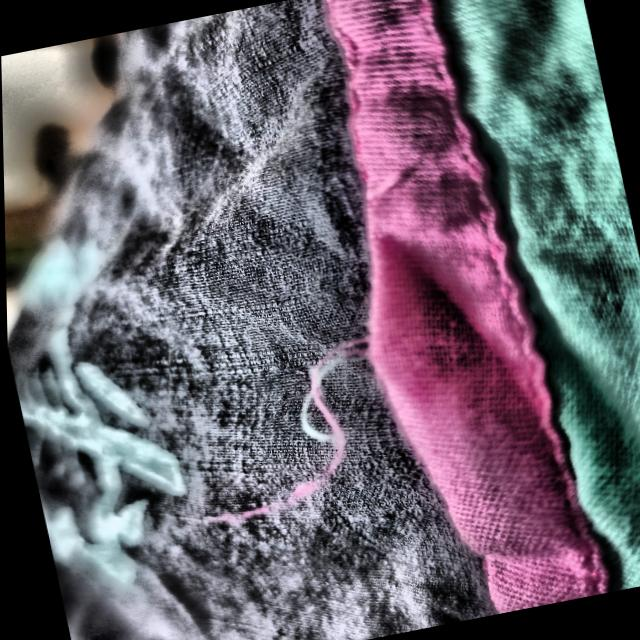Stitch: (104, 312, 457, 557)
